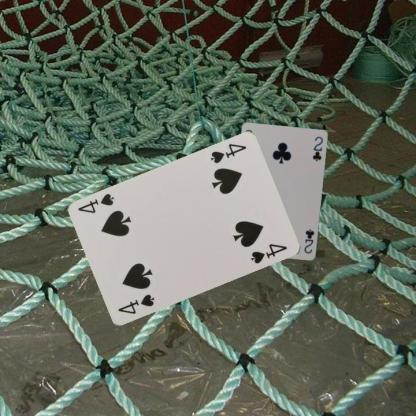2c: (301, 226, 316, 255)
4s: (207, 141, 248, 165), (115, 292, 155, 316)
